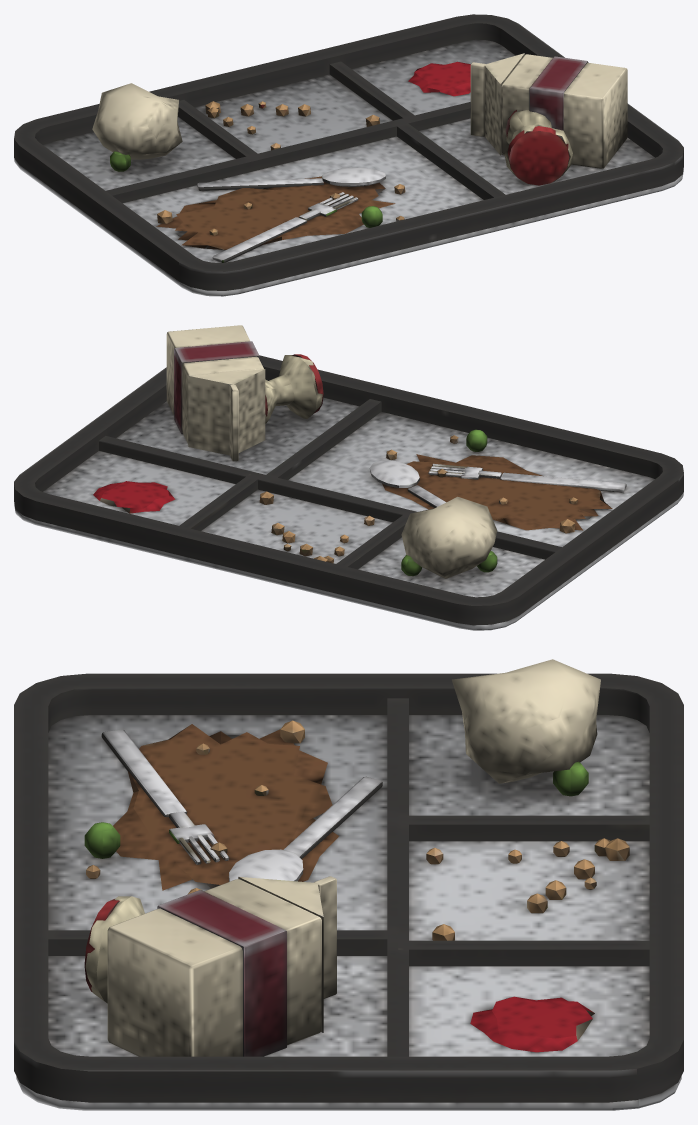
The model's file is LunchTrayEmpty.fbx.
3 views of the same model, one above another, from view 1: azimuth 30°, elevation 25°; view 2: azimuth 150°, elevation 25°; view 3: azimuth 270°, elevation 25° (orthographic). The views are drawn at different scales.
Visible parts, largest first — view 1: LunchTrayEmpty; view 2: LunchTrayEmpty; view 3: LunchTrayEmpty.
Part boxes in pixels (x1,y1,x2,y2): LunchTrayEmpty: (14,14,683,296); LunchTrayEmpty: (14,325,683,630); LunchTrayEmpty: (14,659,683,1110).
Bounding box in the file's own units: 191 × 29.8 × 136.
